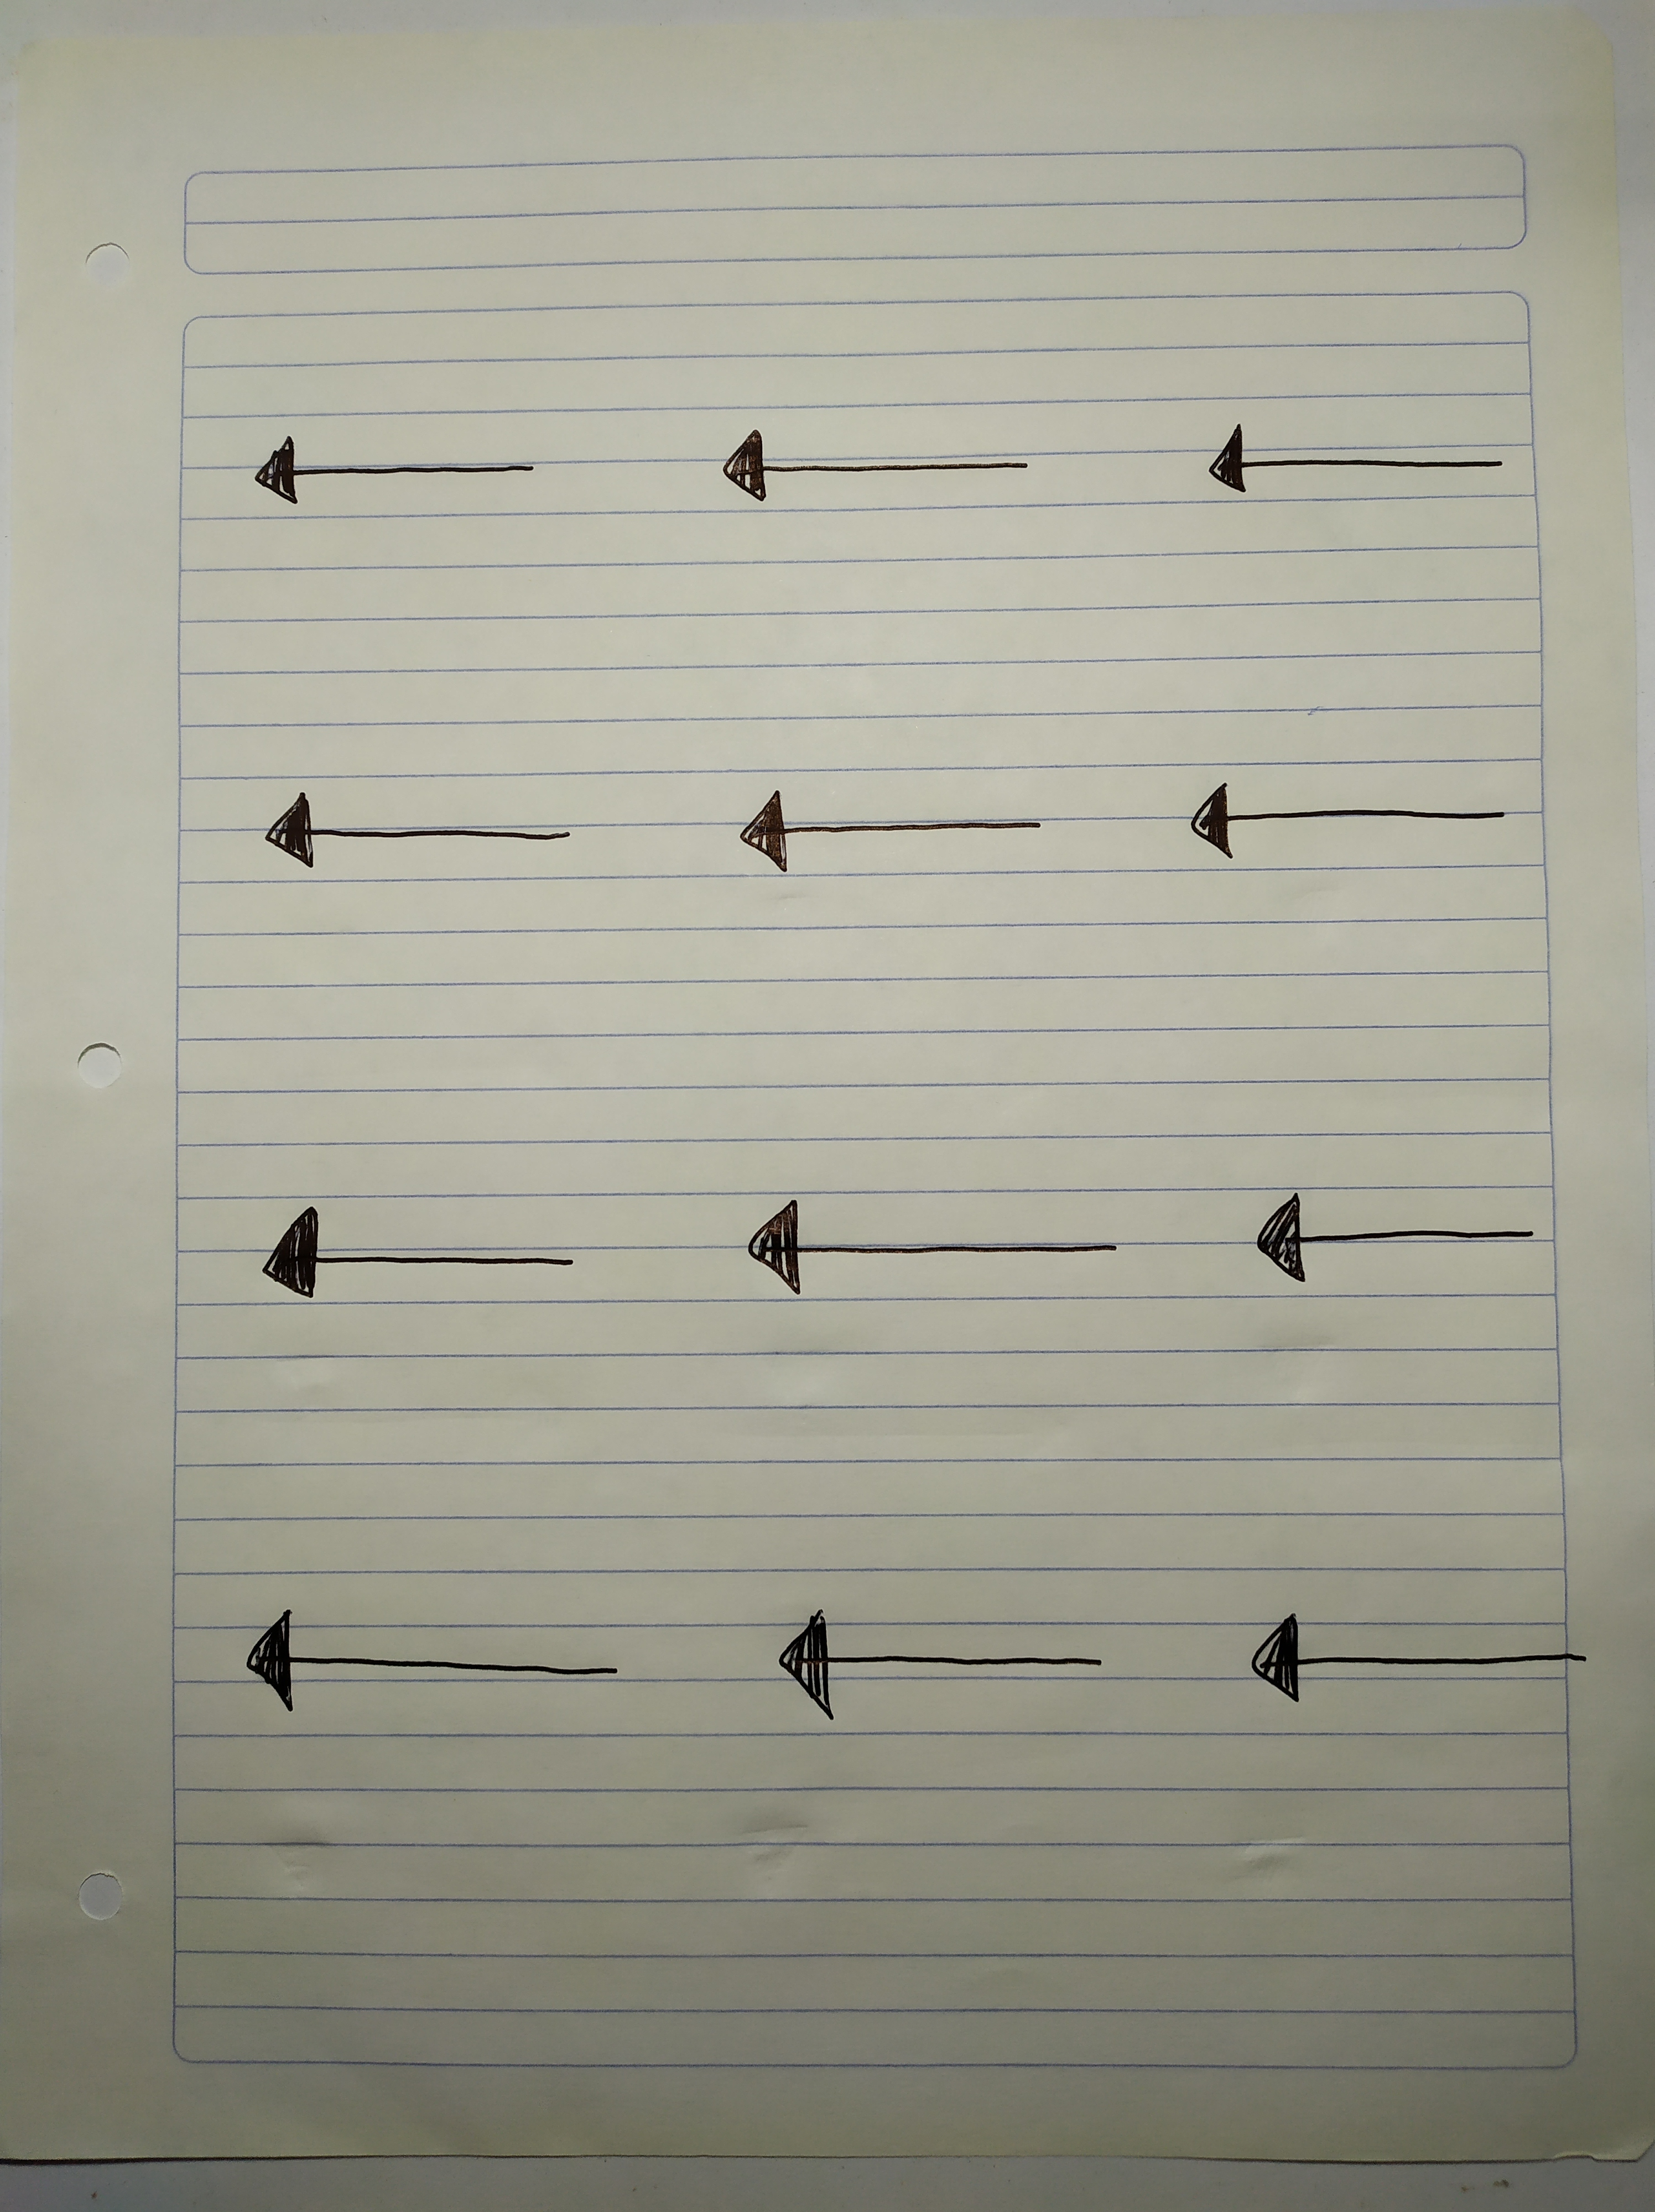arrow_line_left: (216, 1590, 678, 1748), (212, 1187, 638, 1328), (1215, 1595, 1620, 1725), (734, 1604, 1147, 1731), (709, 1189, 1146, 1308), (233, 770, 603, 904), (692, 763, 1069, 890), (1226, 1187, 1563, 1317), (1154, 765, 1526, 878), (214, 412, 581, 523), (692, 410, 1053, 518), (1184, 408, 1526, 516)
